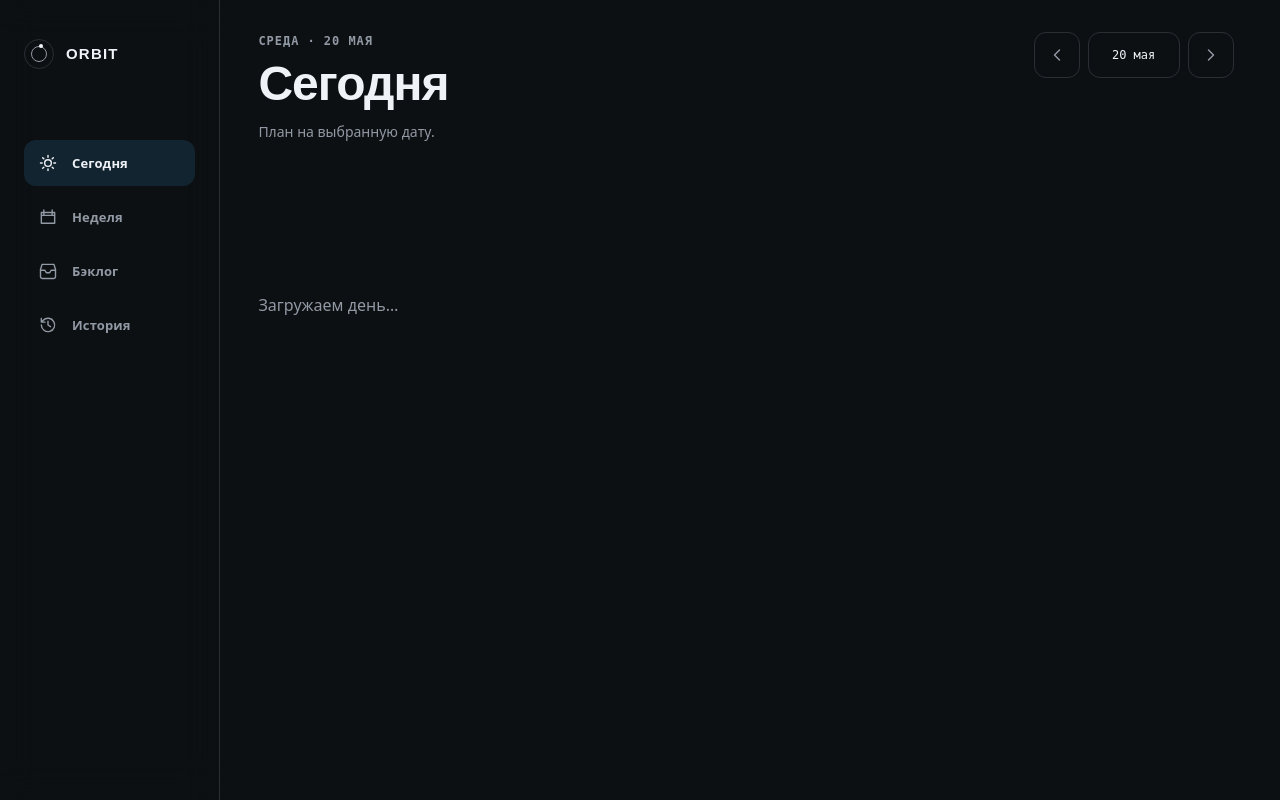
Scenario: AppRouter › navigates the four canonical areas with Russian labels and no workout surface
The width and height of the screenshot is (1280, 800).
Check: the heading "Сегодня" is shown, box [258,59,449,110]
Click the link "Бэклог" at (78, 271), box [38,261,118,281]
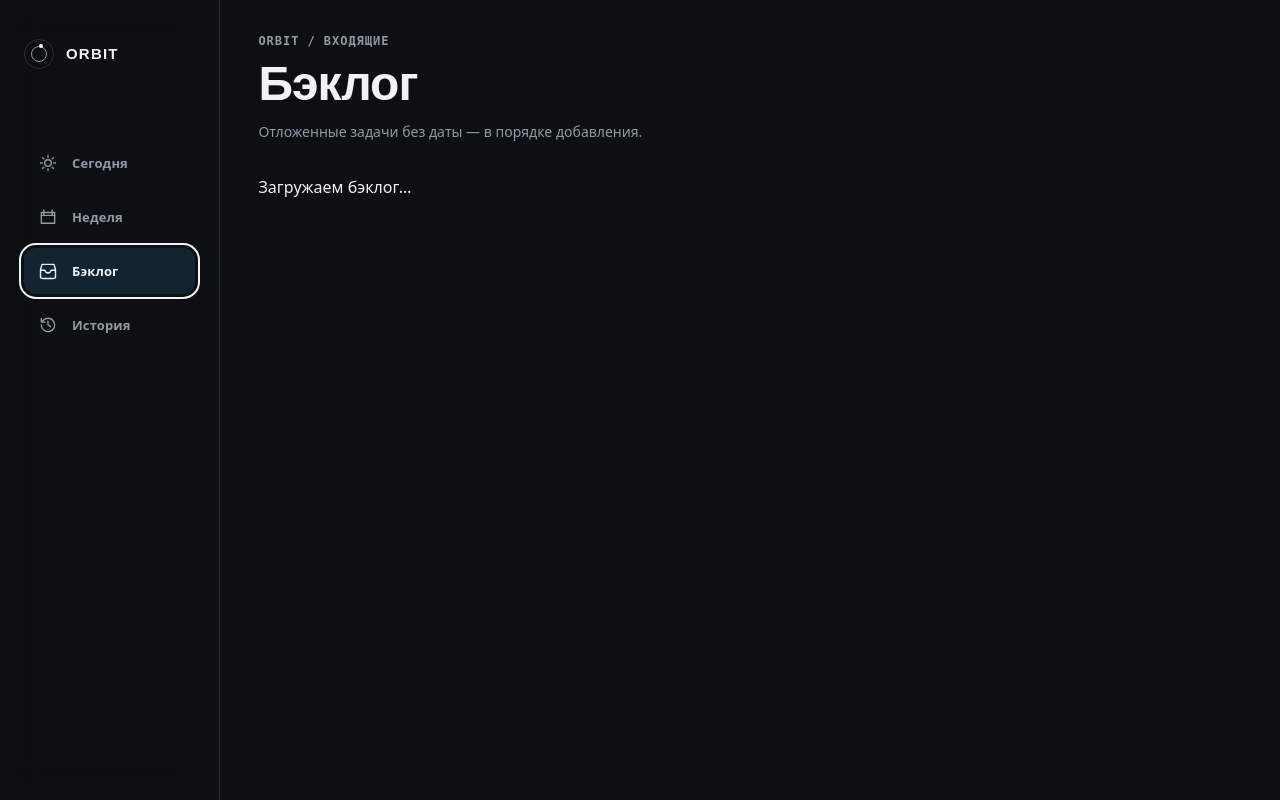
Check: the heading "Бэклог" is shown, box [258,57,417,110]
Click the link "История" at (84, 325), box [38,315,131,335]
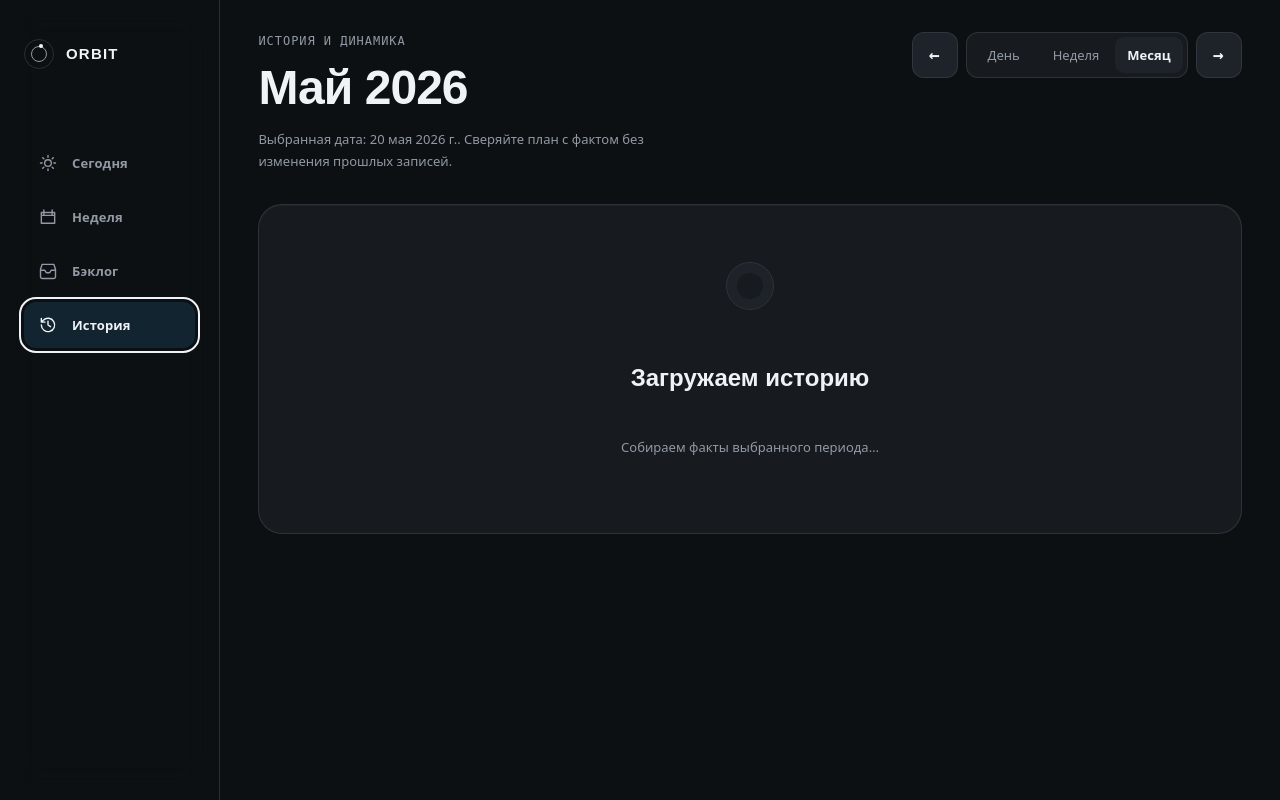
Check: the text "История и динамика" is shown, box [258,34,406,48]
Check: the heading "Май 2026" is shown, box [258,61,468,114]
